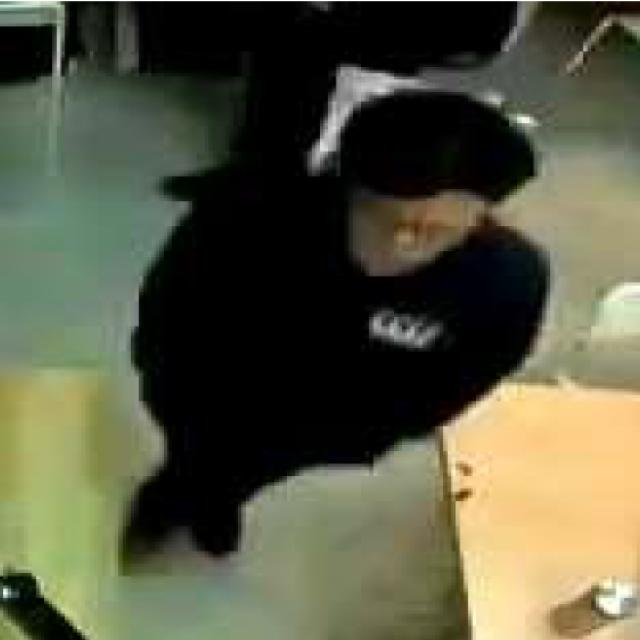tag: (368, 306, 449, 347)
